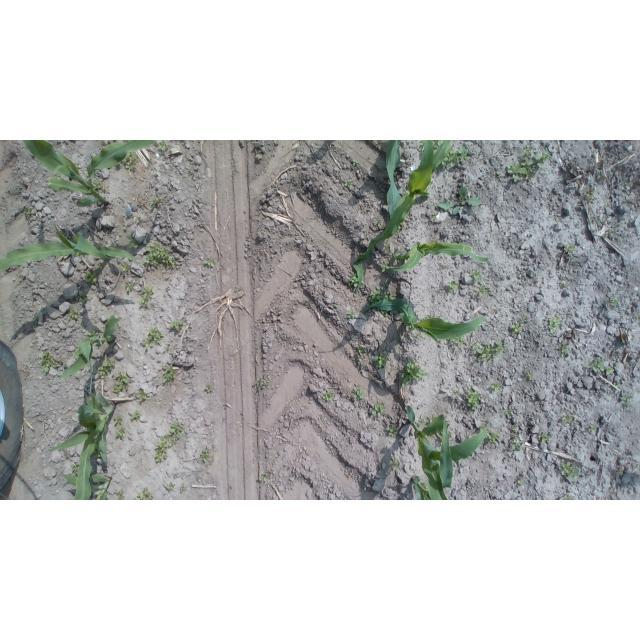Maize: (352, 140, 452, 292), (22, 141, 154, 208), (405, 405, 490, 500), (49, 390, 116, 500), (0, 222, 140, 266), (363, 299, 485, 345), (52, 315, 120, 393), (378, 240, 489, 272), (64, 468, 111, 500), (385, 140, 403, 217), (410, 475, 431, 500)
Weeds: (508, 147, 551, 182), (438, 186, 480, 214), (470, 339, 507, 361), (144, 243, 175, 266), (401, 360, 427, 387), (441, 146, 470, 167), (370, 284, 395, 305), (155, 436, 174, 462), (143, 328, 162, 348), (113, 372, 131, 393), (98, 358, 115, 378), (41, 352, 58, 372), (562, 462, 579, 482), (139, 286, 154, 307), (121, 152, 139, 169), (467, 390, 481, 411), (547, 315, 562, 333), (162, 366, 177, 383), (168, 423, 182, 439), (373, 353, 387, 367), (470, 268, 483, 283), (138, 488, 153, 501), (451, 336, 465, 349), (85, 270, 98, 283), (592, 358, 604, 372), (169, 318, 183, 330), (562, 415, 577, 426), (136, 390, 149, 402), (94, 180, 106, 193), (371, 404, 383, 417), (487, 430, 500, 442), (621, 394, 633, 407), (348, 273, 358, 288), (511, 437, 521, 452), (87, 326, 99, 338), (255, 377, 267, 389), (127, 236, 138, 249), (476, 286, 489, 297), (386, 424, 397, 437), (446, 281, 458, 292), (199, 450, 210, 462), (358, 347, 369, 358), (511, 323, 522, 334), (353, 387, 363, 399), (115, 427, 125, 438), (159, 141, 169, 152), (538, 432, 548, 443), (70, 306, 79, 318), (151, 196, 160, 208), (586, 189, 595, 201), (561, 342, 568, 357), (322, 393, 335, 401), (259, 472, 269, 482), (124, 281, 134, 291), (114, 490, 124, 500), (381, 261, 390, 272), (433, 140, 444, 149), (564, 245, 575, 254), (91, 450, 102, 459), (132, 411, 141, 422), (391, 456, 398, 470), (377, 308, 389, 316), (491, 382, 501, 391), (80, 292, 88, 303), (419, 415, 426, 427), (374, 218, 383, 227), (352, 159, 361, 168), (206, 258, 215, 267), (396, 222, 404, 232), (606, 365, 614, 375), (24, 208, 31, 219), (114, 416, 122, 425), (121, 263, 129, 272), (205, 384, 213, 393), (589, 425, 597, 433), (71, 464, 79, 472), (417, 332, 424, 341), (525, 371, 532, 380), (611, 297, 618, 306), (421, 140, 426, 152), (382, 245, 390, 252), (343, 180, 350, 188), (480, 426, 488, 433), (97, 263, 104, 270), (349, 311, 356, 318), (32, 314, 38, 322), (452, 391, 460, 397), (430, 414, 436, 422), (505, 409, 513, 415), (430, 215, 437, 221), (562, 280, 569, 286), (517, 477, 523, 484), (520, 317, 526, 324), (168, 484, 175, 490), (180, 485, 185, 493), (614, 382, 621, 387), (586, 363, 591, 369), (568, 494, 573, 500), (425, 315, 432, 319), (437, 315, 444, 319), (440, 429, 444, 435), (440, 437, 443, 445), (511, 426, 517, 430), (555, 220, 561, 224), (608, 230, 613, 234), (137, 217, 141, 221), (164, 347, 169, 350), (278, 335, 283, 338), (65, 457, 68, 460)
